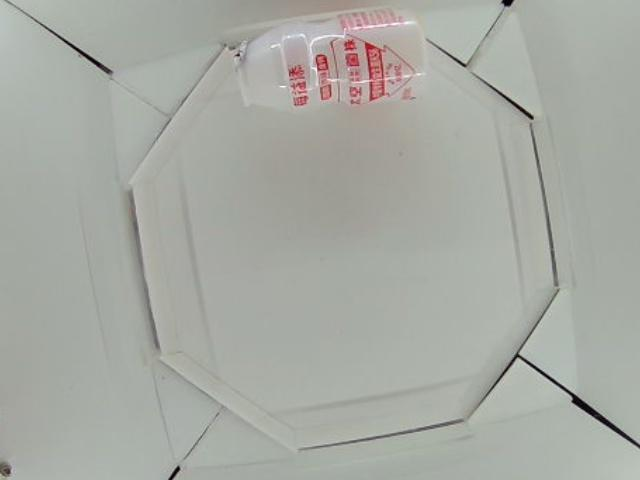Bottle: (232, 3, 426, 113)
